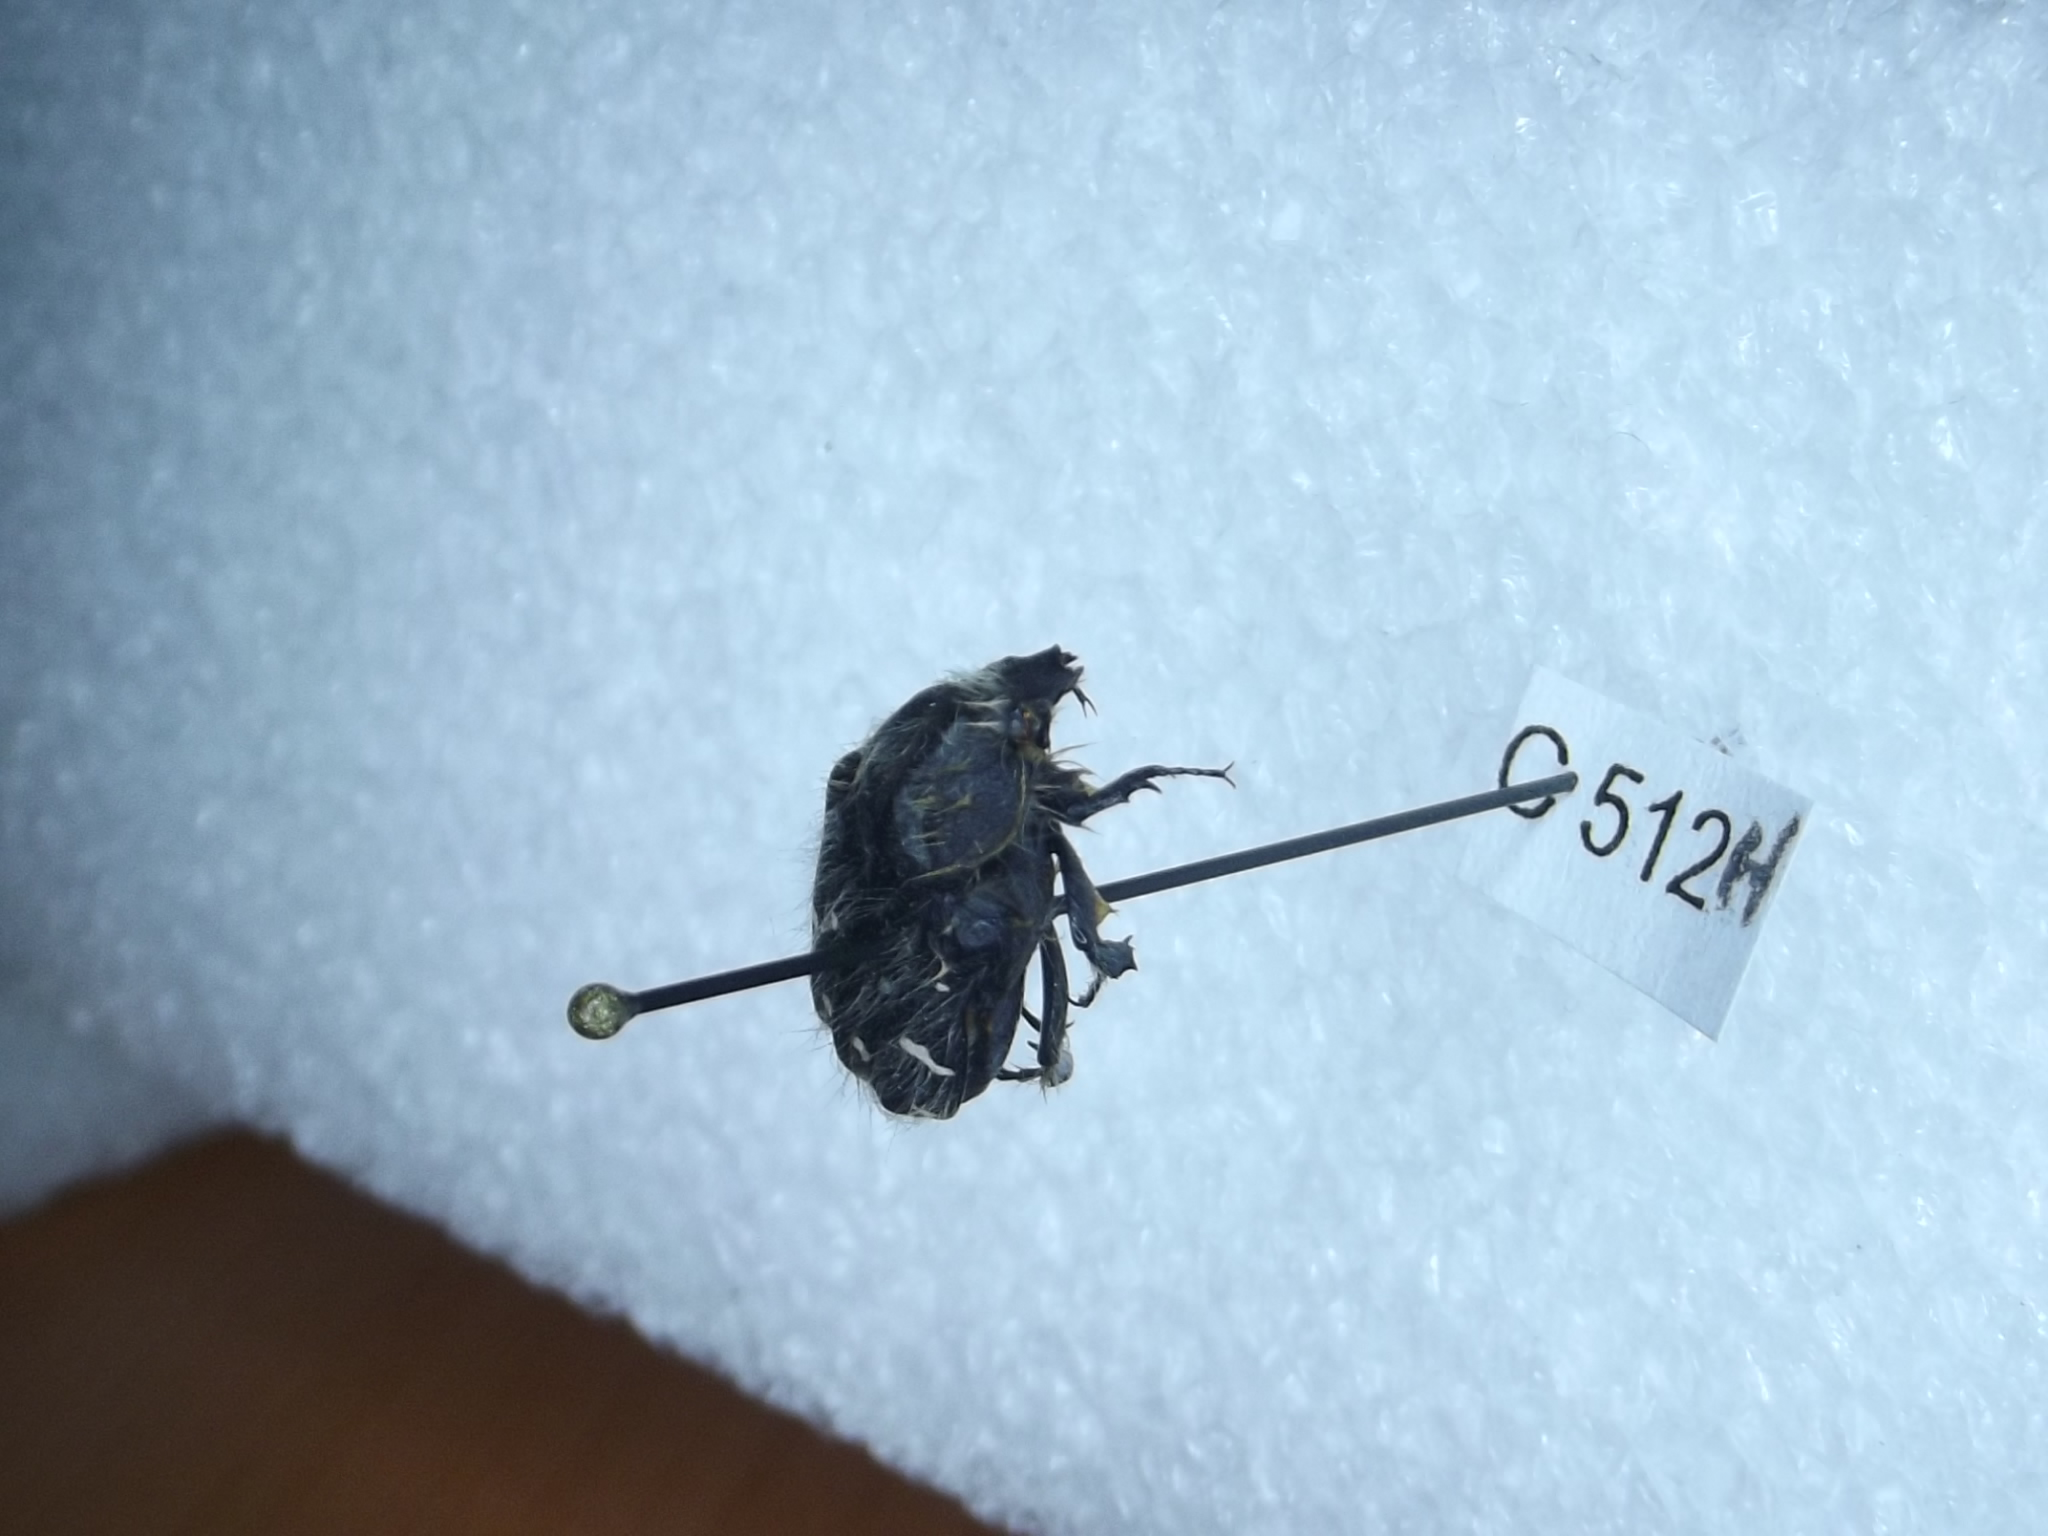Tropinota_senicula: (771, 607, 1259, 1149)
